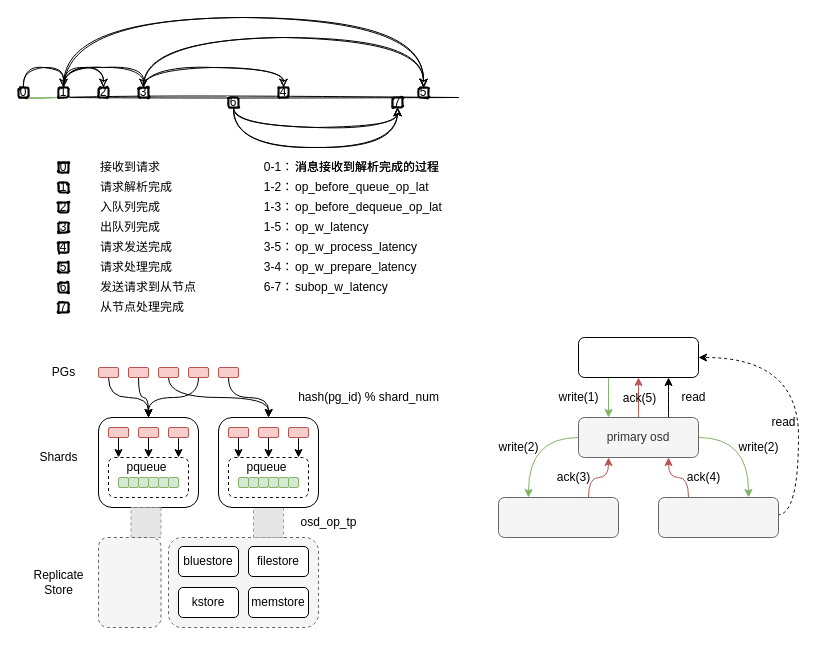
The diagram is 817 pixels wide and 645 high, and some of its shapes have lost their labels. Grey dashed boxes stand in for pictures. Each missing label, with the box of its shape:
client: (578, 336, 698, 378)
replica: (98, 536, 161, 628)
secondary osd: (498, 496, 618, 538)
tertiary osd: (658, 496, 778, 538)
